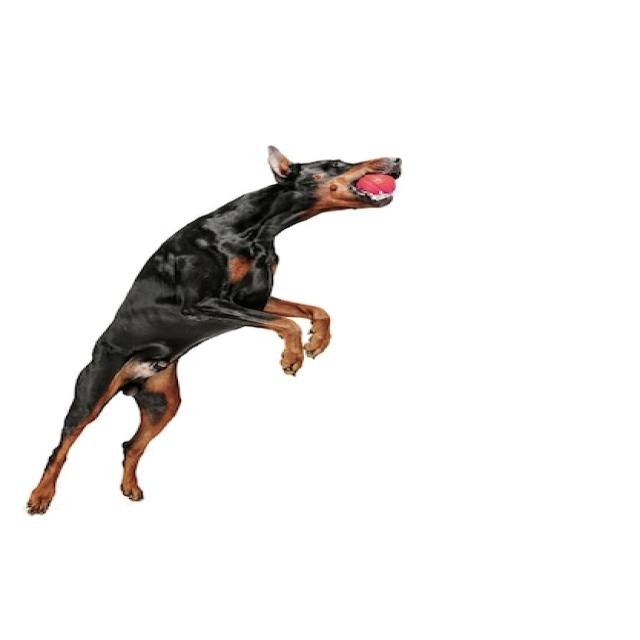Dog: (27, 143, 403, 515)
